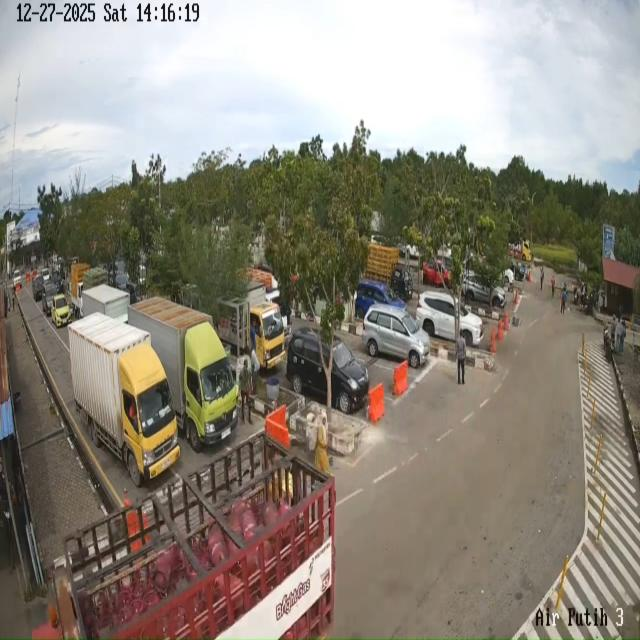Golongan IVA: (286, 327, 369, 414), (362, 304, 430, 368), (416, 291, 484, 347), (355, 280, 406, 319), (462, 272, 506, 308), (423, 258, 451, 287), (51, 294, 71, 328), (42, 282, 58, 316)
Golongan VB: (32, 432, 335, 640), (68, 313, 180, 486), (128, 297, 239, 451), (217, 280, 286, 369)
